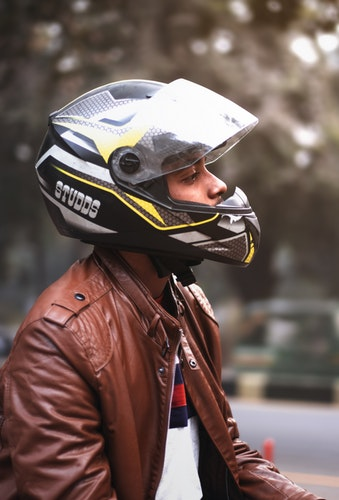helmet: (45, 74, 262, 264)
